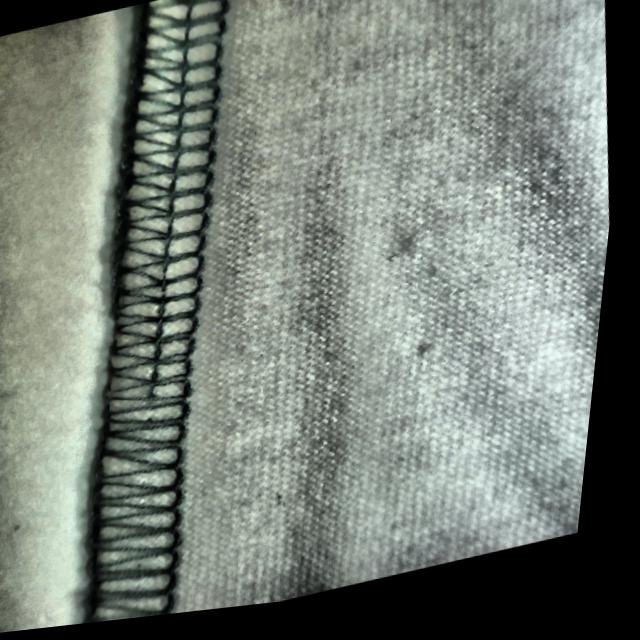Stitch: (55, 220, 259, 610)
